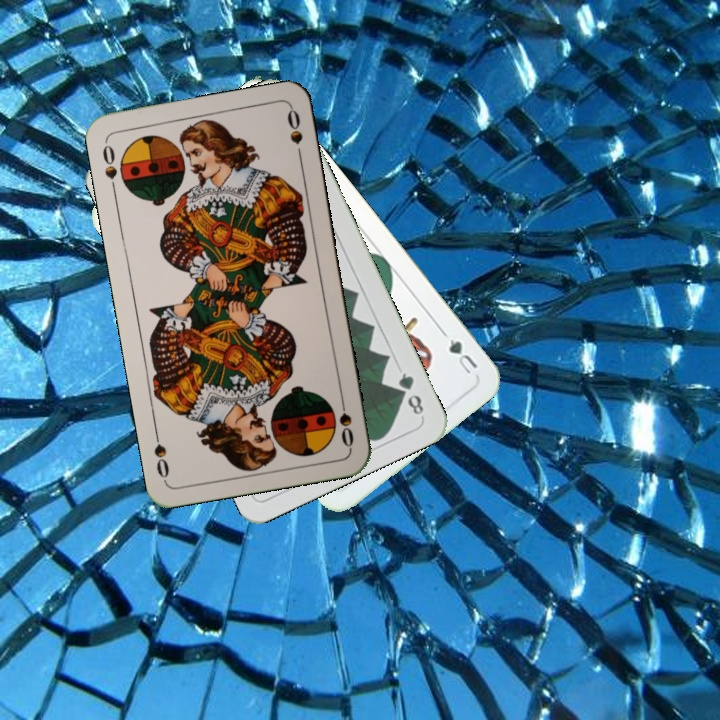G8: (394, 368, 427, 418)
GU: (438, 327, 481, 377)
SO: (335, 391, 357, 450), (98, 138, 120, 197)
